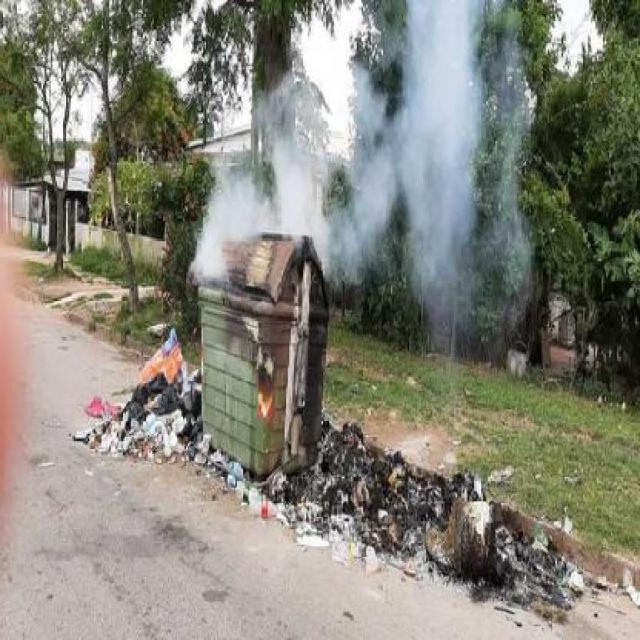garbage: (222, 414, 608, 626), (72, 351, 210, 455)
